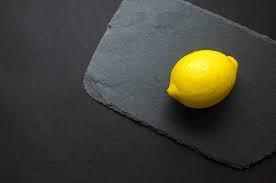lemon: (166, 50, 239, 108)
